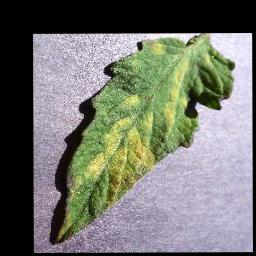Leaf_Mold: (84, 109, 156, 206), (161, 54, 189, 134), (56, 173, 82, 243), (120, 93, 140, 108), (150, 40, 166, 55)
